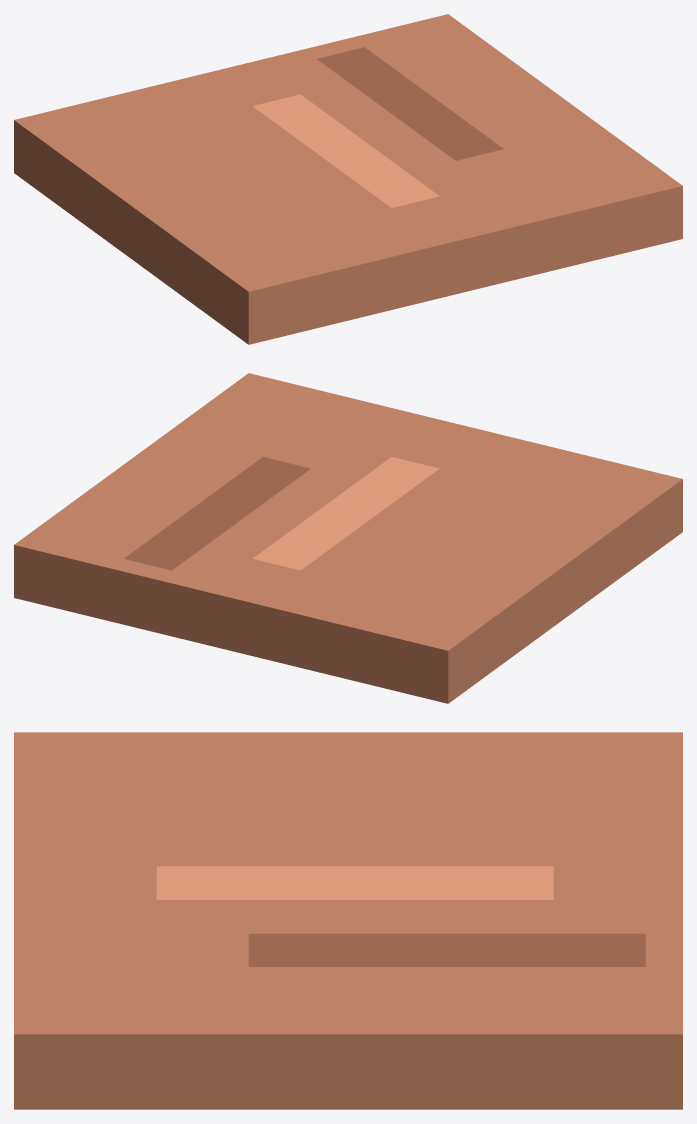
The model's file is Floor_Tile_02.fbx.
The picture shows the model from 3 angles, top to bottom: view 1: azimuth 30°, elevation 25°; view 2: azimuth 150°, elevation 25°; view 3: azimuth 270°, elevation 25°; orthographic projection. The views are drawn at different scales.
Visible parts, largest first — view 1: Cube.050; view 2: Cube.050; view 3: Cube.050.
Boxes of the visible parts, bbox=[...] form: Cube.050: bbox=[14, 14, 682, 344]; Cube.050: bbox=[14, 373, 682, 703]; Cube.050: bbox=[14, 732, 682, 1109].
Bounding box in the file's own units: 2.14 × 2 × 0.25.
